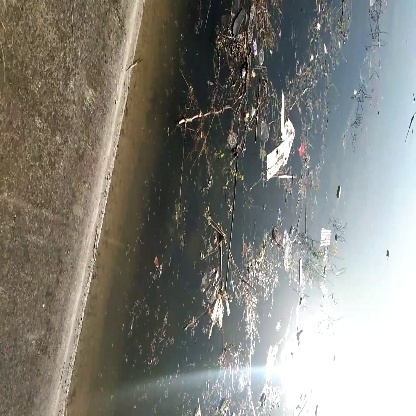plastic-bag: (264, 115, 300, 183)
